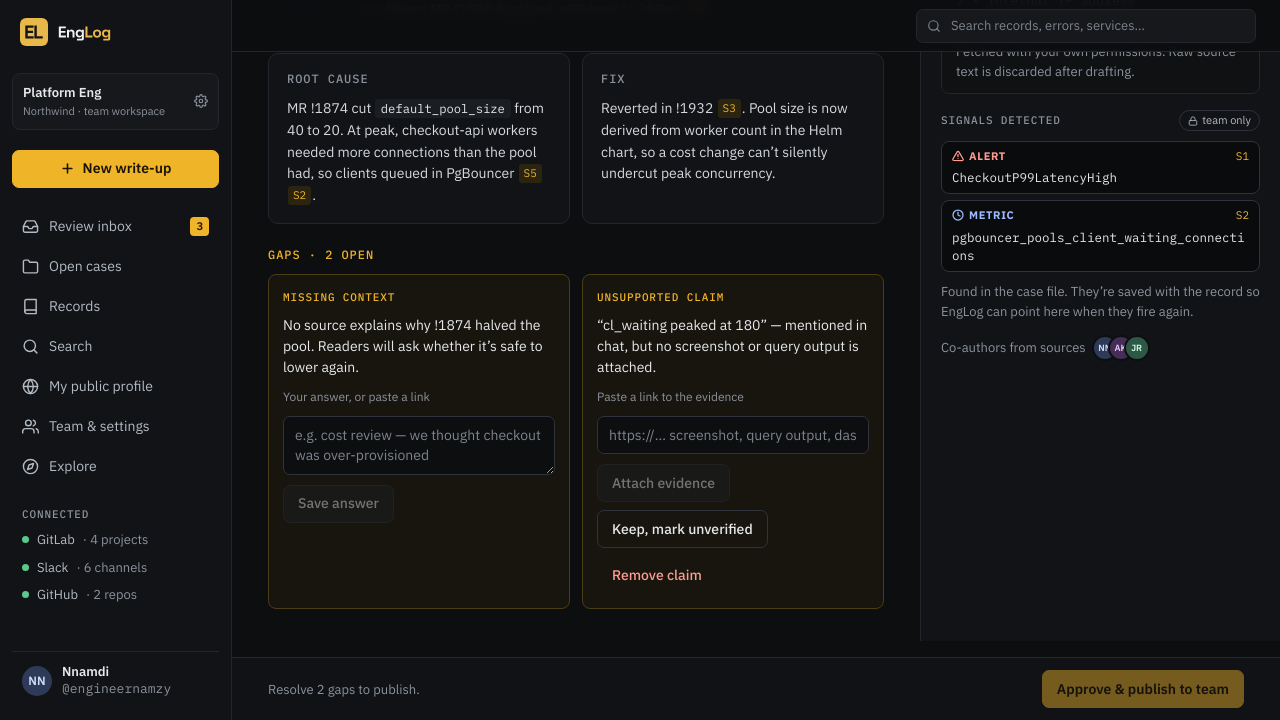
Test: EngLog app › resolves gaps and publishes a draft to the team
(page scrolled)
Expected: the button "Approve & publish to team" is disabled, x1=1042 y1=670 x2=1244 y2=708
Type "Cost review" into the text box labelled "Your answer, or paste a link" at coordinates (419, 445), box x1=283 y1=416 x2=555 y2=475
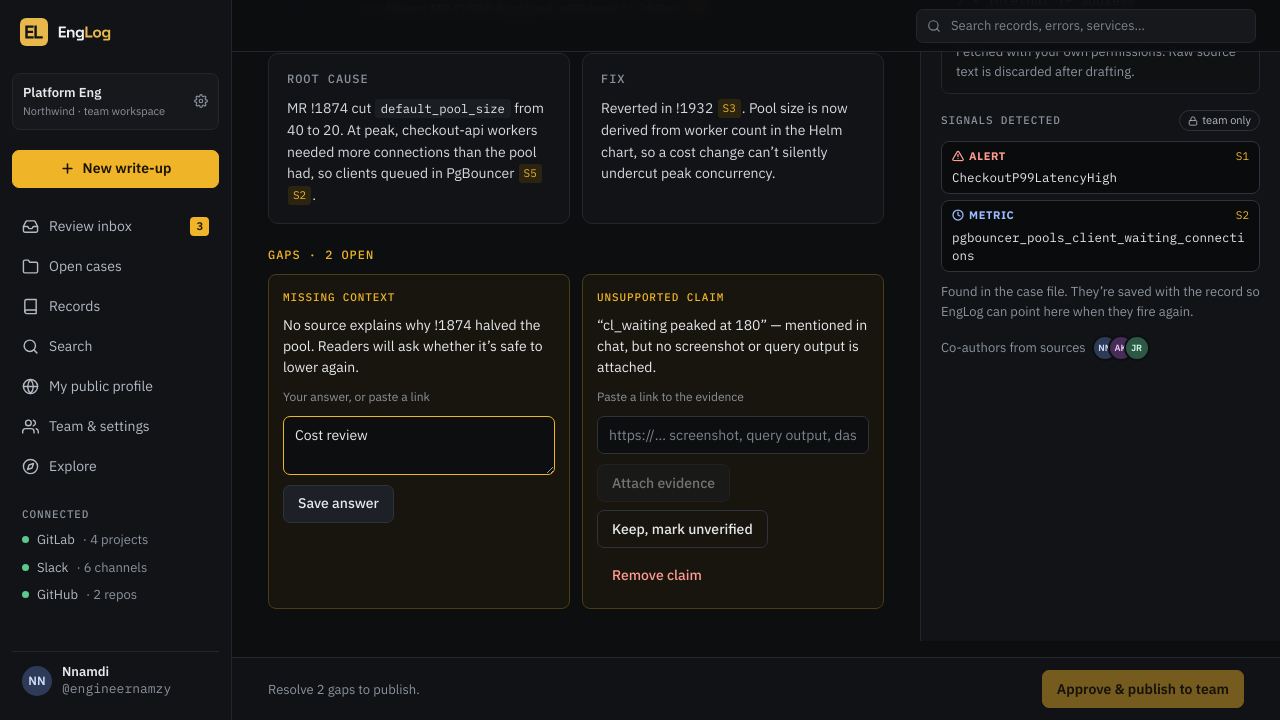
Click the button "Save answer" at coordinates (338, 504), box x1=283 y1=485 x2=394 y2=523
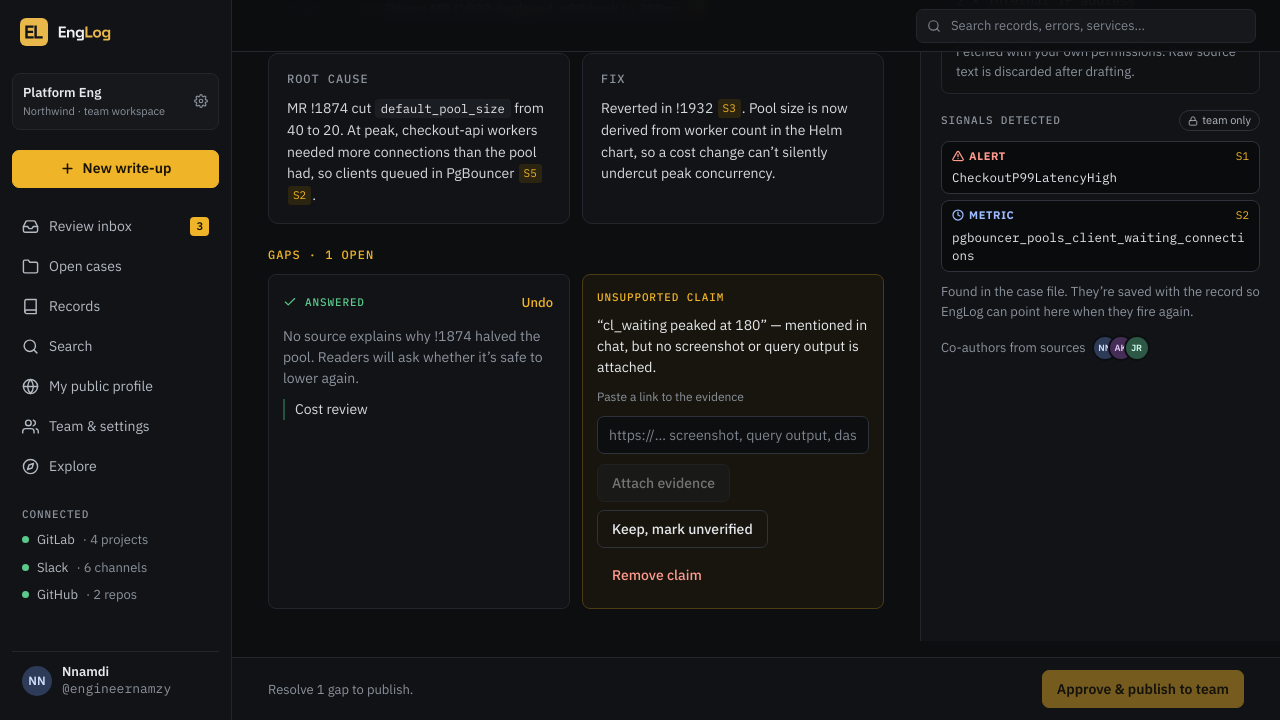
Now the text "Answered" is shown, box x1=305 y1=294 x2=365 y2=311
Click the button "Keep, mark unverified" at coordinates (682, 529), box x1=597 y1=510 x2=768 y2=548
(page scrolled)
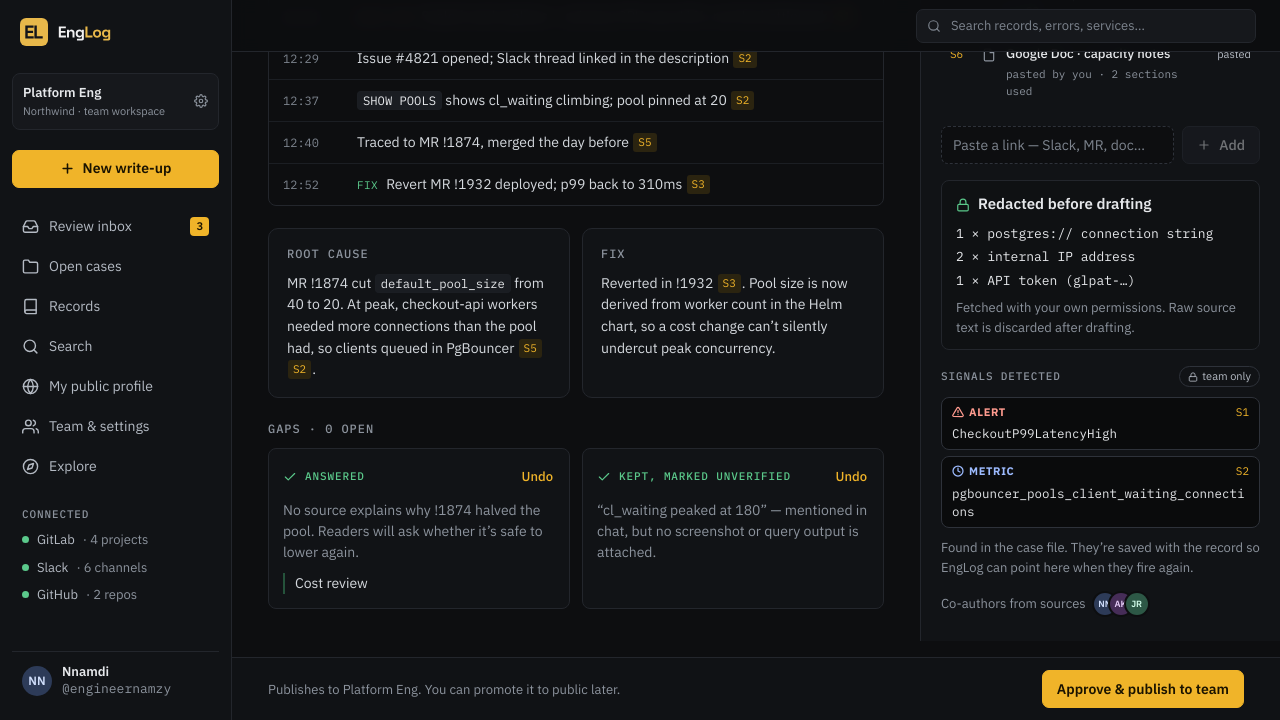
Now the text "Kept, marked unverified" is shown, box x1=619 y1=468 x2=791 y2=485
Now the button "Approve & publish to team" is enabled
Click the button "Approve & publish to team" at coordinates (1143, 689), box x1=1042 y1=670 x2=1244 y2=708
(page scrolled)
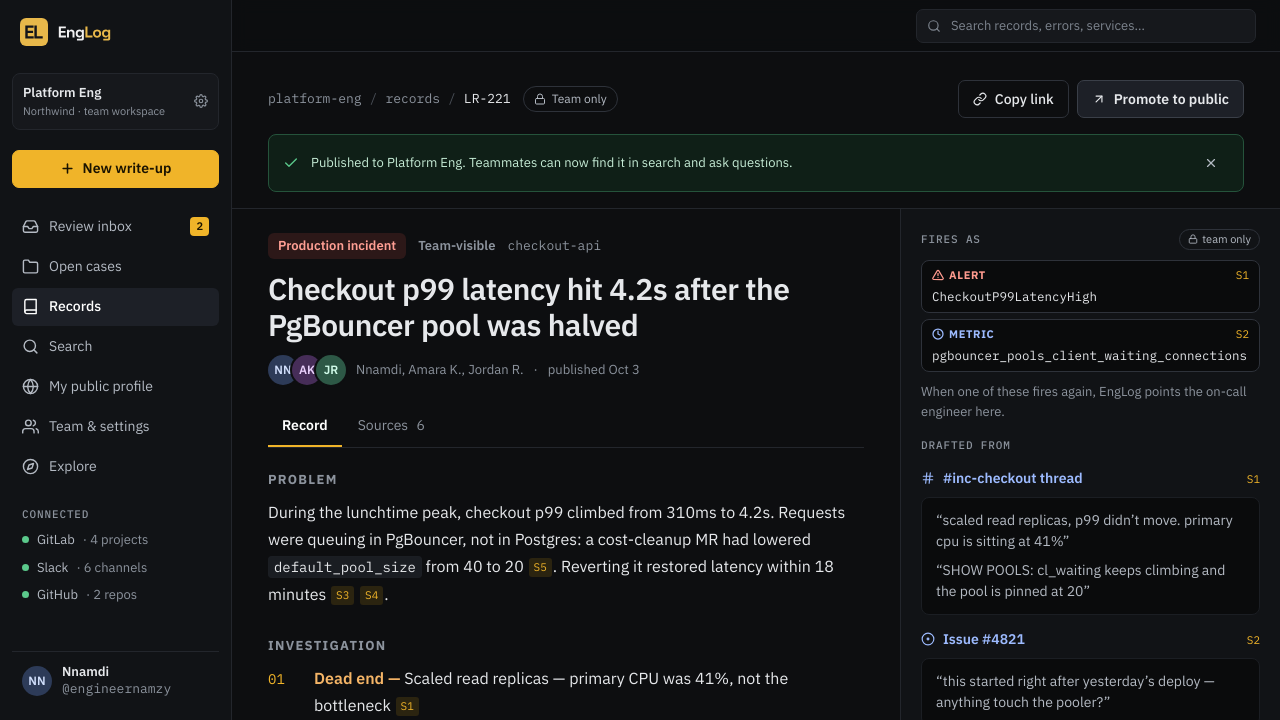
Expected: the 2nd heading shows "Checkout p99 latency", x1=268 y1=268 x2=790 y2=344
Now the text "Published to Platform Eng" is shown, box x1=311 y1=154 x2=793 y2=171
